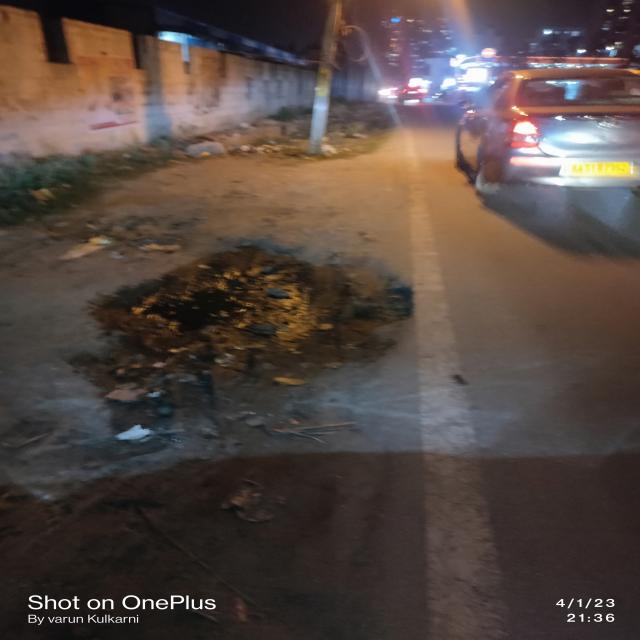Puddle pothole: (122, 253, 410, 460)
potholes: (60, 203, 202, 254)
